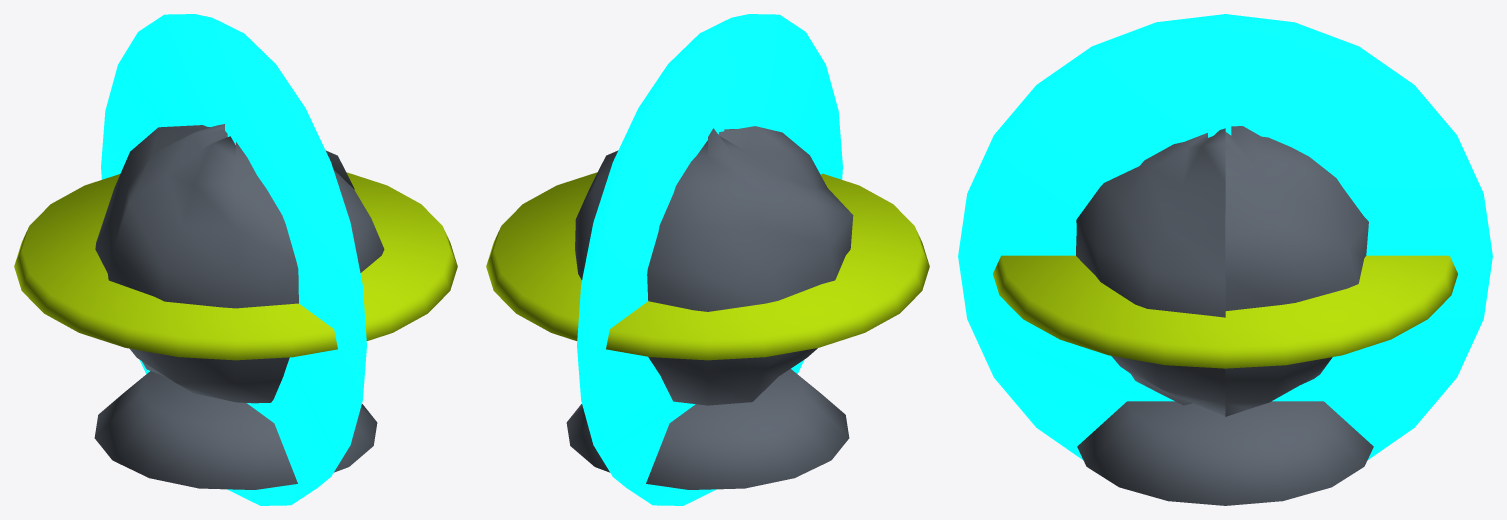
File: 0bbe6fba-f6de-481e-b7d3-98261d6cd646.glb
The picture shows the model from 3 angles, left to right: view 1: azimuth 30°, elevation 25°; view 2: azimuth 150°, elevation 25°; view 3: azimuth 270°, elevation 25°; orthographic projection. The views are drawn at different scales.
Visible parts, largest first — view 1: GeneratedObject3D; view 2: GeneratedObject3D; view 3: GeneratedObject3D.
Part boxes in pixels (<box>): GeneratedObject3D: <box>14,14,457,505</box>; GeneratedObject3D: <box>486,14,929,505</box>; GeneratedObject3D: <box>958,14,1492,505</box>.
Size of the model in its own units: 2.8 by 3.2 by 3.2.
